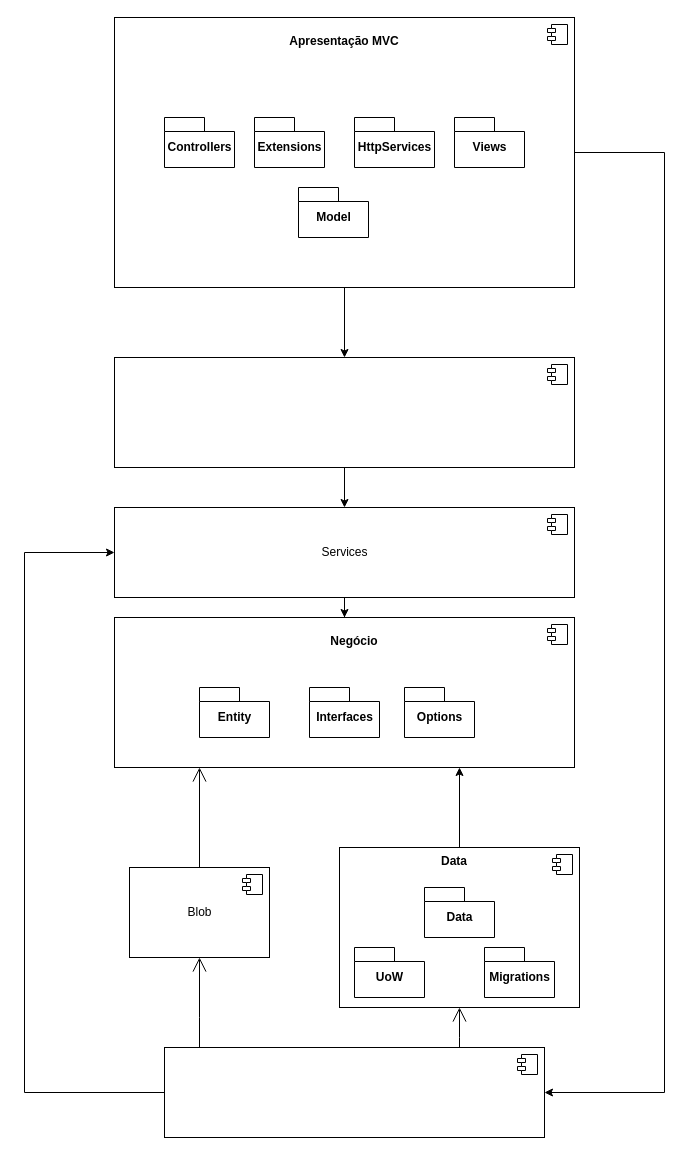
Some shapes in this 690 by 1155 pixel diagram are drawn without their labels. Each missing label, with the box of its shape:
Aplicação Web API: (114, 356, 574, 468)
Inversion of Control: (164, 1046, 544, 1138)
